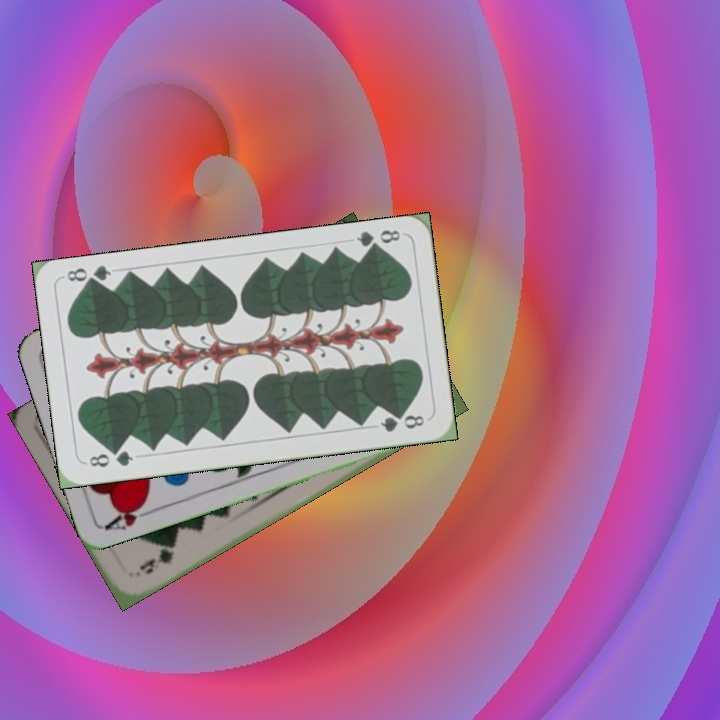G8: (352, 225, 403, 255), (85, 445, 136, 470)
G9: (134, 540, 178, 577)
HA: (101, 497, 159, 533)
